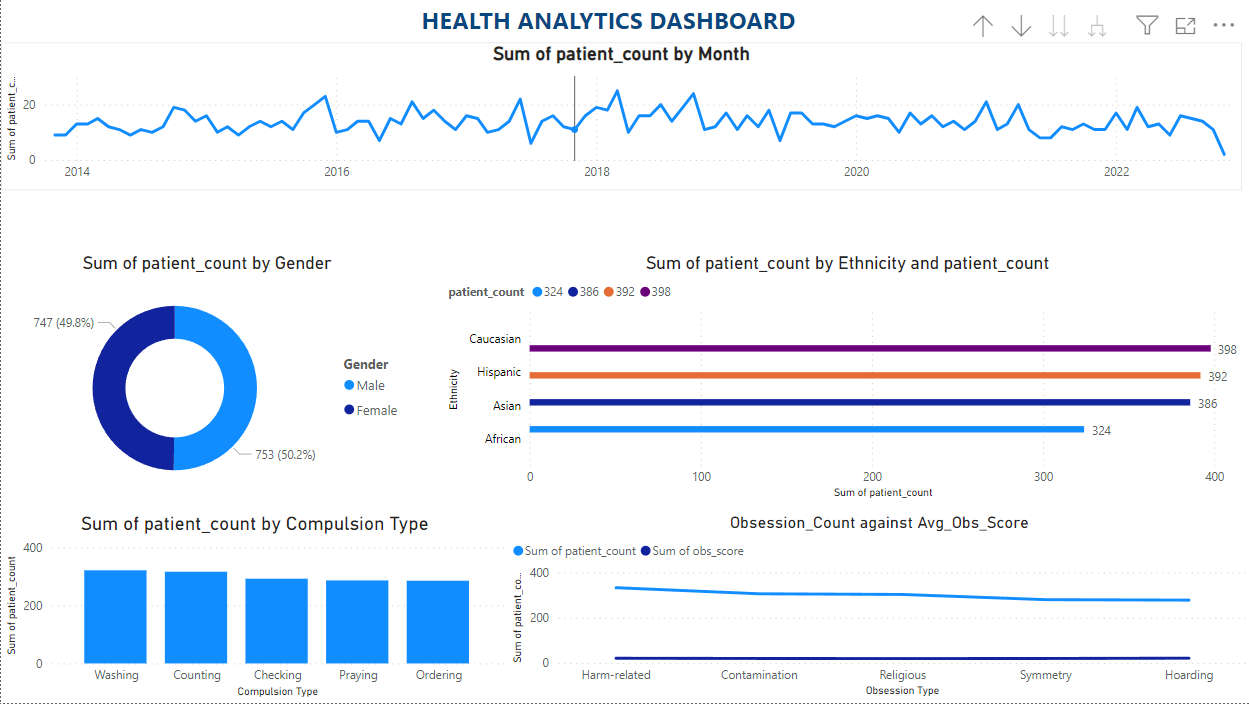

Layout of this report page (visuals, bound fields, positions):
{"tool":"powerbi","page":{"name":"Page 1","canvas":[1280,720],"ordinal":0},"visuals":[{"type":"textbox","box":[9.9,0,1269.9,64.5],"z":0},{"type":"lineChart","title":"Sum of patient_count by Month","fields":{"Y":["Sum(diagnosis  mom.patient_count)"],"Category":["diagnosis  mom.month.Variation.Date Hierarchy.Year","diagnosis  mom.month.Variation.Date Hierarchy.Month"]},"box":[0,44.6,1269.9,150.5],"z":1000},{"type":"donutChart","fields":{"Category":["gender.Gender"],"Y":["Sum(gender.patient_count)"]},"box":[0,259.6,421.7,256.3],"z":2000},{"type":"clusteredBarChart","fields":{"Category":["ethnicity.Ethnicity"],"Y":["Sum(ethnicity.patient_count)"],"Series":["ethnicity.patient_count"]},"box":[453.1,259.6,826.8,256.3],"z":3000},{"type":"columnChart","fields":{"Category":["comp_type.Compulsion Type"],"Y":["Sum(comp_type.patient_count)"]},"box":[0,525.8,519.2,193.5],"z":4000},{"type":"lineChart","title":"Obsession_Count against Avg_Obs_Score","fields":{"Category":["obs_type.Obsession Type"],"Y":["Sum(obs_type.patient_count)","Sum(obs_type.obs_score)"]},"box":[519,526,761,193],"z":5000}]}

Visuals, with their boxes on the page's 1280x720 design canvas (x1, y1, x2, y2). These are canvas units, not pixel positions in the 1249x704 screenshot, which may show the page scaled, cropped or inside an application window:
textbox: (x1=10, y1=0, x2=1280, y2=64)
"Sum of patient_count by Month" lineChart: (x1=0, y1=45, x2=1270, y2=195)
donutChart - gender.Gender x Sum(gender.patient_count): (x1=0, y1=260, x2=422, y2=516)
clusteredBarChart - ethnicity.Ethnicity x Sum(ethnicity.patient_count): (x1=453, y1=260, x2=1280, y2=516)
columnChart - comp_type.Compulsion Type x Sum(comp_type.patient_count): (x1=0, y1=526, x2=519, y2=719)
"Obsession_Count against Avg_Obs_Score" lineChart: (x1=519, y1=526, x2=1280, y2=719)
